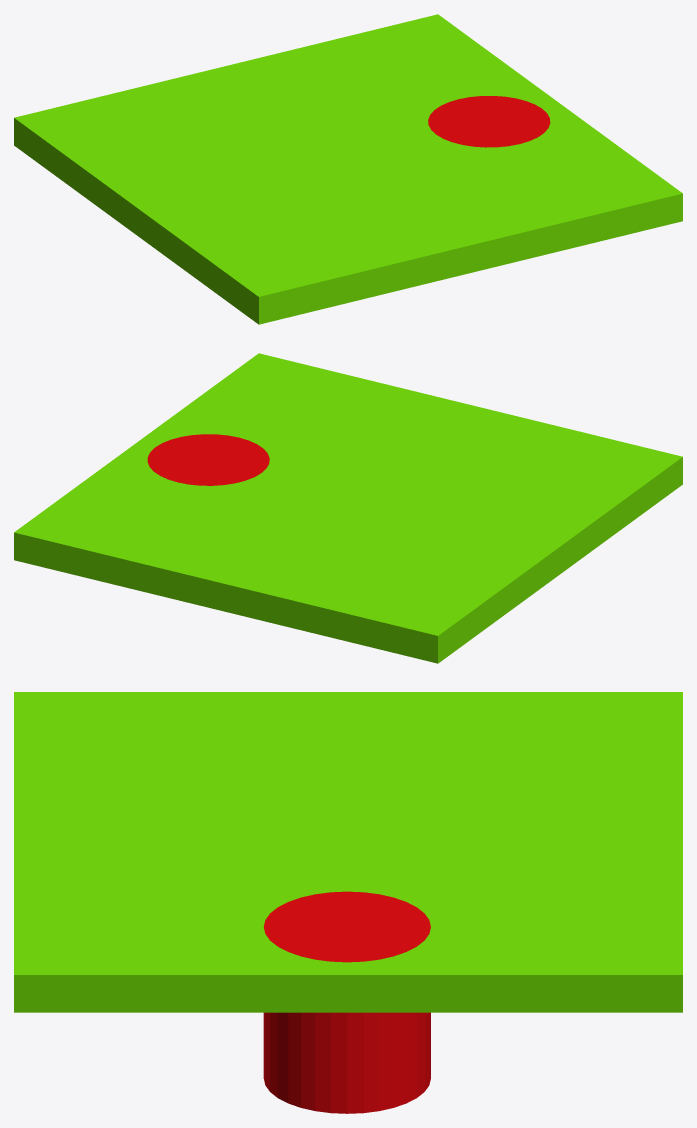
Rendered from BlockTypeHole-2.fbx.
3 views of the same model, one above another, from view 1: azimuth 30°, elevation 25°; view 2: azimuth 150°, elevation 25°; view 3: azimuth 270°, elevation 25° (orthographic). The views are drawn at different scales.
Parts seen in each view (by area): view 1: Cube, Cylinder; view 2: Cube, Cylinder; view 3: Cube, Cylinder.
Part boxes in pixels (<box>): Cube: <box>14,14,682,324</box>; Cylinder: <box>428,96,550,147</box>; Cube: <box>14,353,682,663</box>; Cylinder: <box>147,434,269,485</box>; Cube: <box>14,692,682,1012</box>; Cylinder: <box>263,891,430,1113</box>.
Size of the model in its own units: 800 by 200 by 800.
